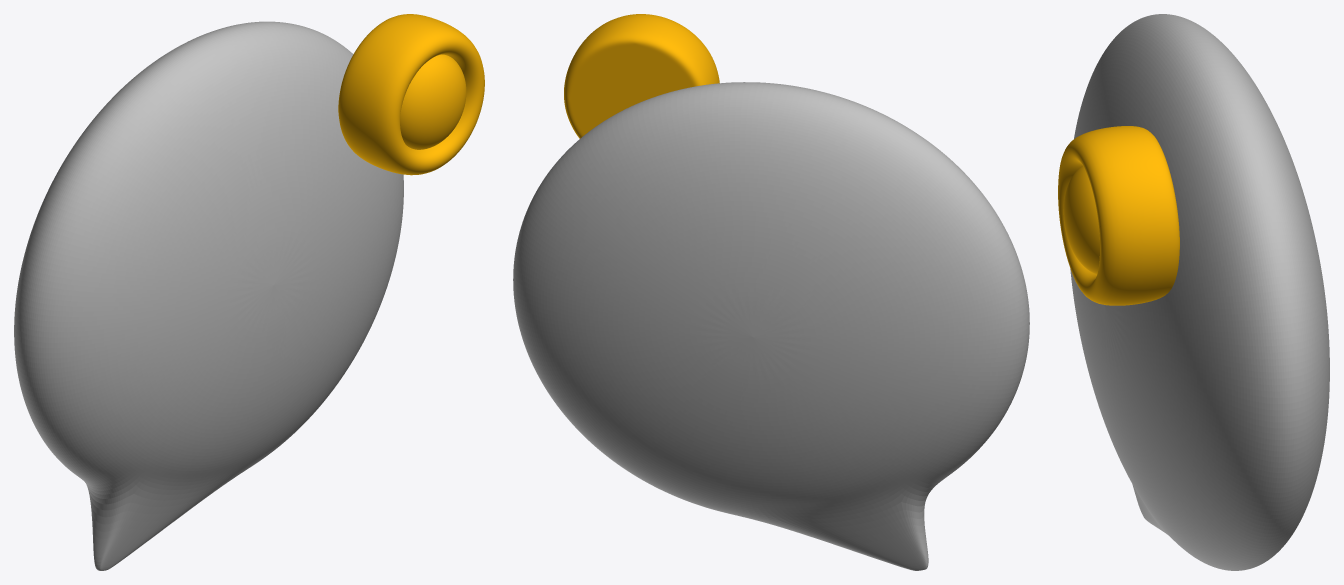
File: unread-message-animated-3d-icon-762372760731.glb
3 views of the same model, side by side, from view 1: azimuth 30°, elevation 25°; view 2: azimuth 150°, elevation 25°; view 3: azimuth 270°, elevation 25° (orthographic). The views are drawn at different scales.
Parts seen in each view (by area): view 1: Bubble Chat, Unread 2, Unread 1; view 2: Bubble Chat, Unread 2; view 3: Bubble Chat, Unread 2, Unread 1.
Part boxes in pixels (left/top/right/bottom): Bubble Chat: left=14, top=21, right=403, bottom=570; Unread 2: left=338, top=14, right=484, bottom=175; Unread 1: left=400, top=54, right=466, bottom=149; Bubble Chat: left=513, top=82, right=1029, bottom=570; Unread 2: left=564, top=14, right=719, bottom=138; Bubble Chat: left=1070, top=14, right=1329, bottom=570; Unread 2: left=1058, top=126, right=1179, bottom=305; Unread 1: left=1063, top=166, right=1099, bottom=274.
Size of the model in its own units: 1.02 by 1.02 by 0.4628.
